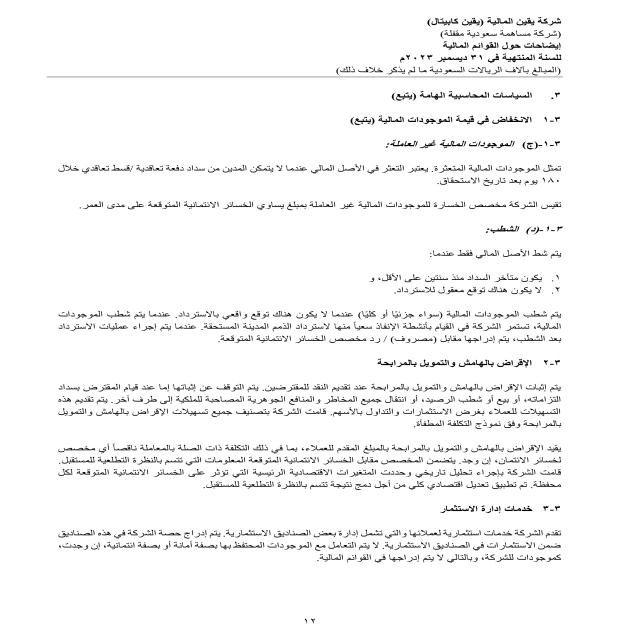notes: (436, 38, 572, 53)
text: (32, 83, 576, 579)
